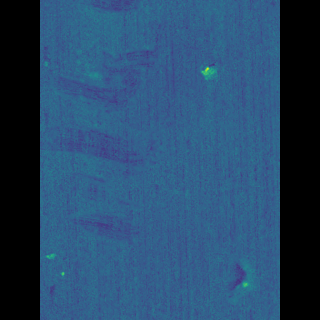Loch: (75, 0, 166, 254)
